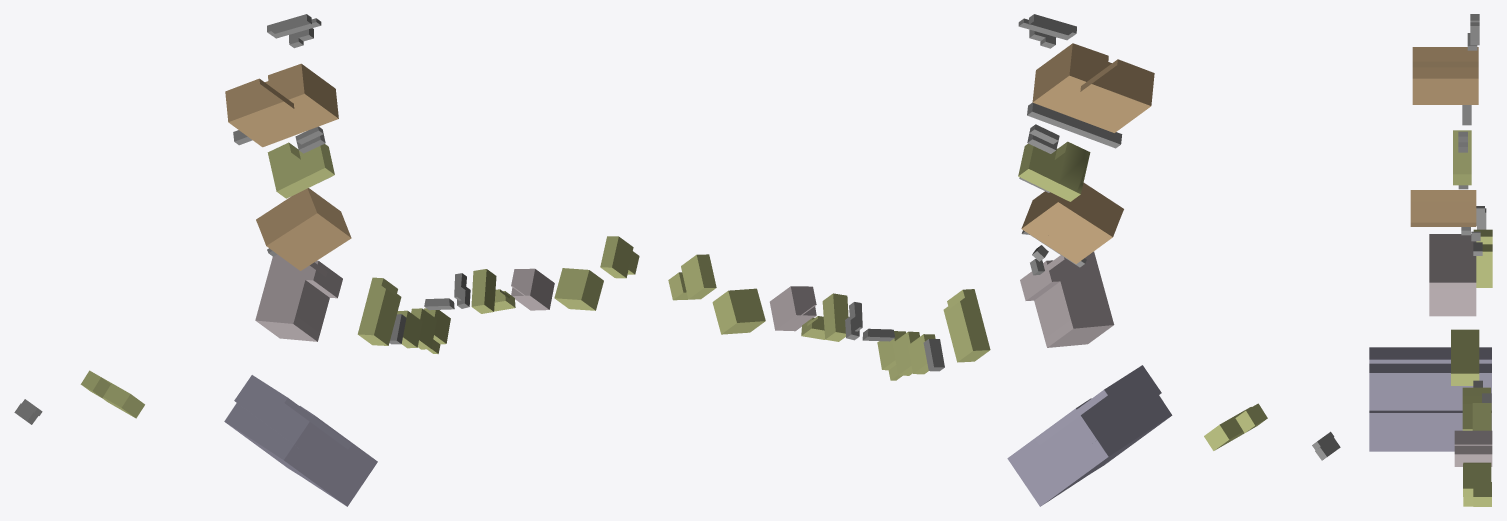
The picture shows the model from 3 angles, left to right: view 1: azimuth 30°, elevation 25°; view 2: azimuth 150°, elevation 25°; view 3: azimuth 270°, elevation 25°; orthographic projection. The views are drawn at different scales.
Visible parts, largest first — view 1: 0_1_2_0_1_3_0; view 2: 0_1_2_0_1_3_0; view 3: 0_1_2_0_1_3_0.
Boxes of the visible parts, x1,y1,x2,y2 form: 0_1_2_0_1_3_0: (14,14,639,506); 0_1_2_0_1_3_0: (668,14,1340,506); 0_1_2_0_1_3_0: (1369,14,1492,506).
Bounding box in the file's own units: 218 × 151 × 39.21.
